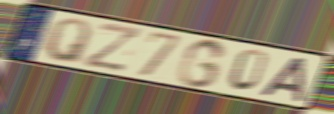0: (224, 48, 269, 94)
7: (141, 29, 184, 79)
A: (257, 55, 309, 105)
G: (175, 38, 229, 90)
Q: (42, 17, 94, 67)
Z: (81, 20, 144, 74)
